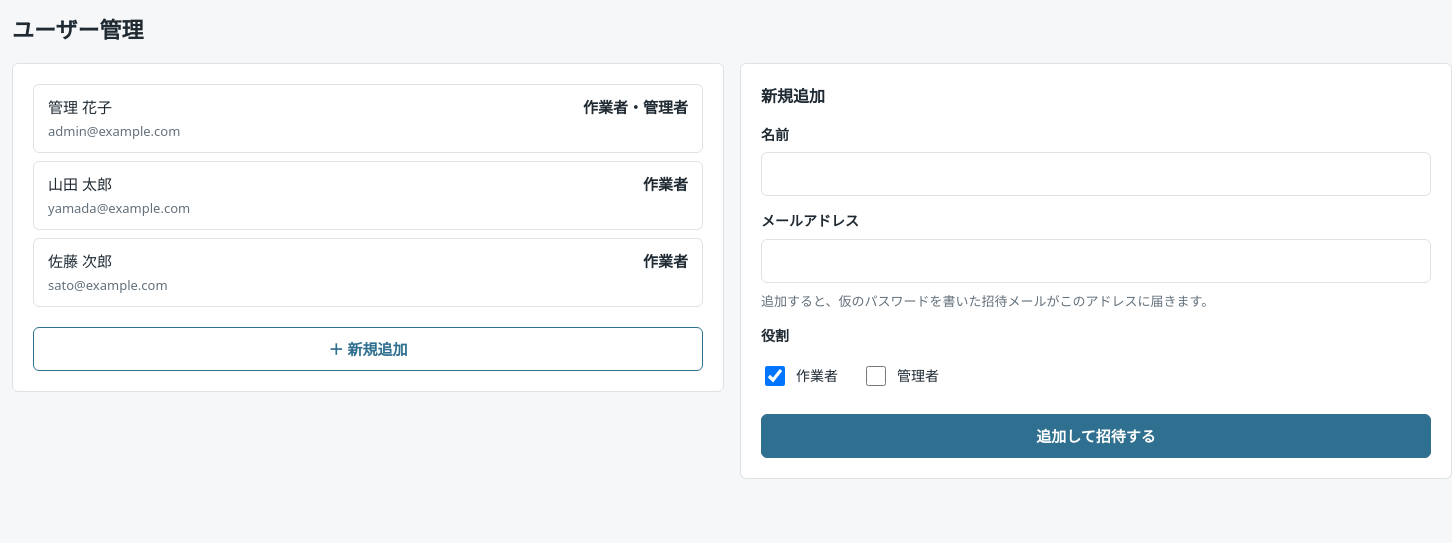
Scenario: 新規追加 › 名前・メールアドレス・役割を入れて追加すると、一覧に出て招待される
The image size is (1452, 543).
Type "鈴木 一郎" into the field labelled "名前".
click(1096, 174); type("鈴木 一郎")  # box [761, 152, 1431, 196]
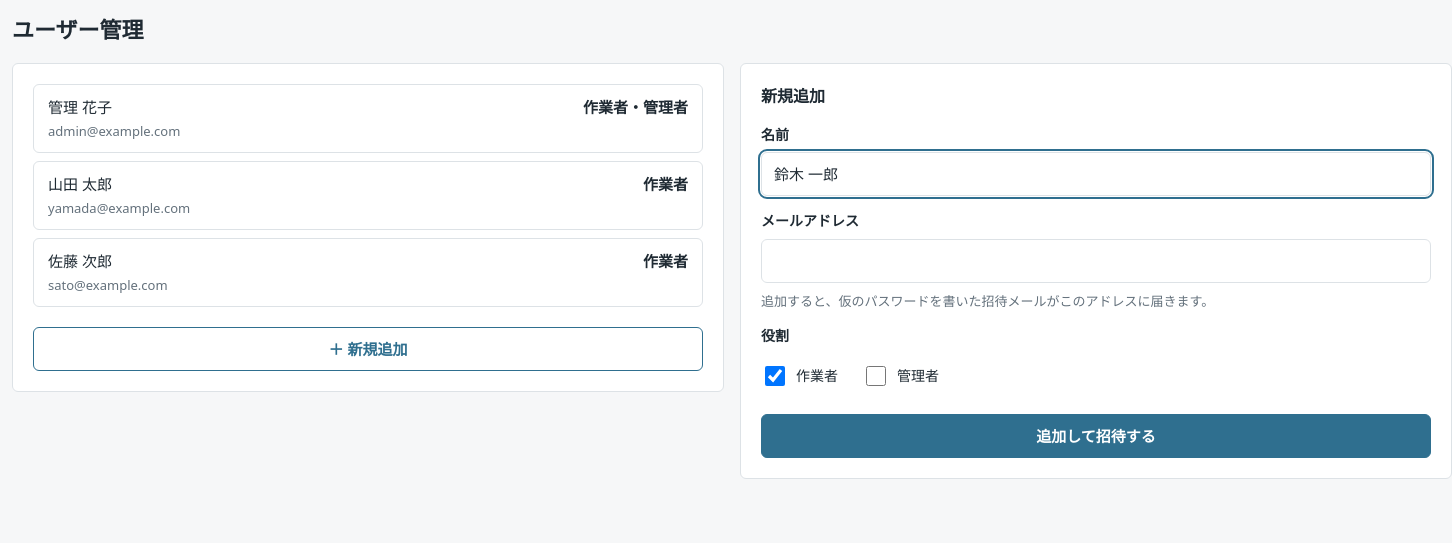
Type "suzuki@example.com" into the field labelled "メールアドレス".
click(1096, 261); type("suzuki@example.com")  # box [761, 239, 1431, 283]
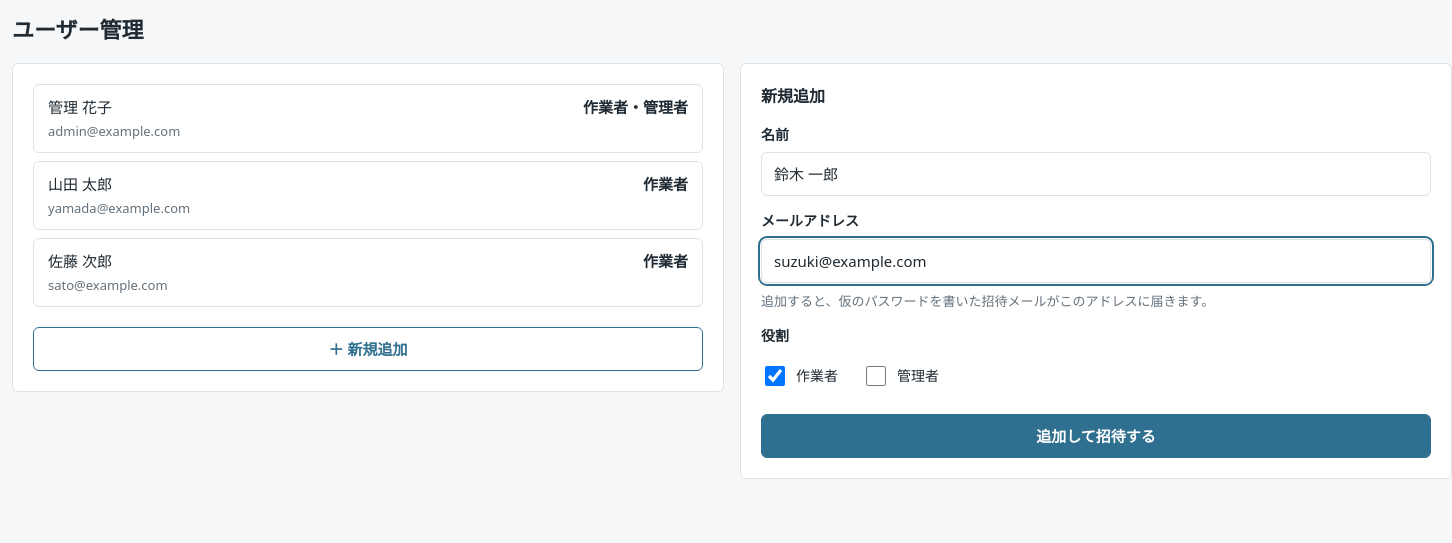
Click the button "追加して招待する".
click(1096, 436)  # box [761, 414, 1431, 458]
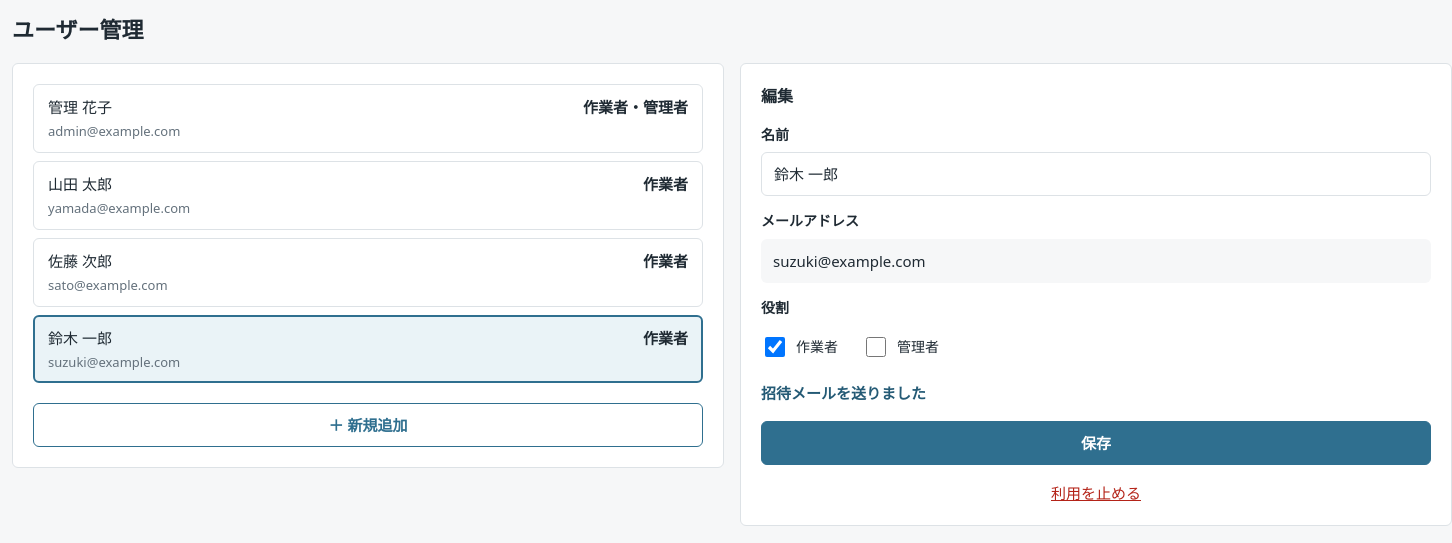
Expected: the text "招待メールを送りました" is shown, [761, 383, 926, 403]
Expected: the button "鈴木 一郎 作業者 suzuki@example.com" is shown, [33, 315, 703, 383]
